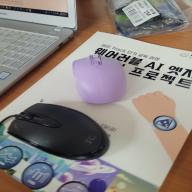mouse: (6, 102, 112, 162), (71, 54, 127, 106)
